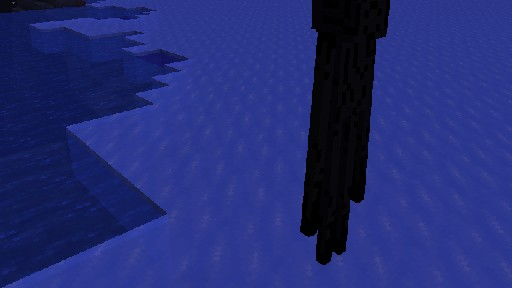enderman: (299, 0, 393, 270)
